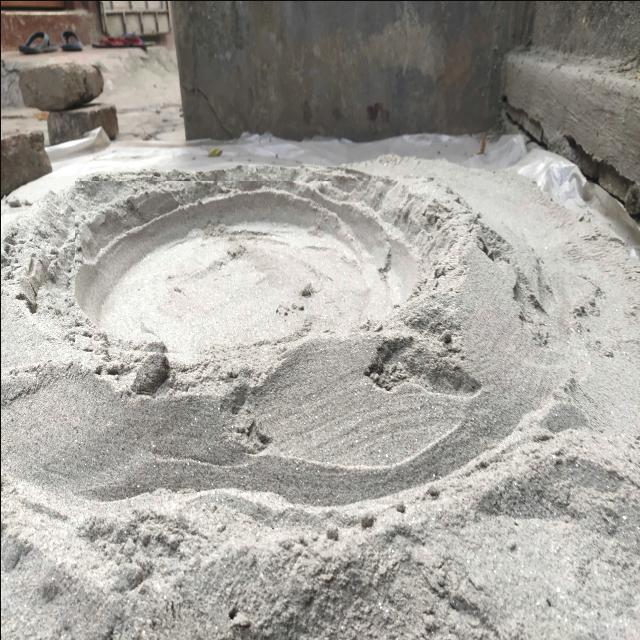C40: (74, 180, 416, 356)
